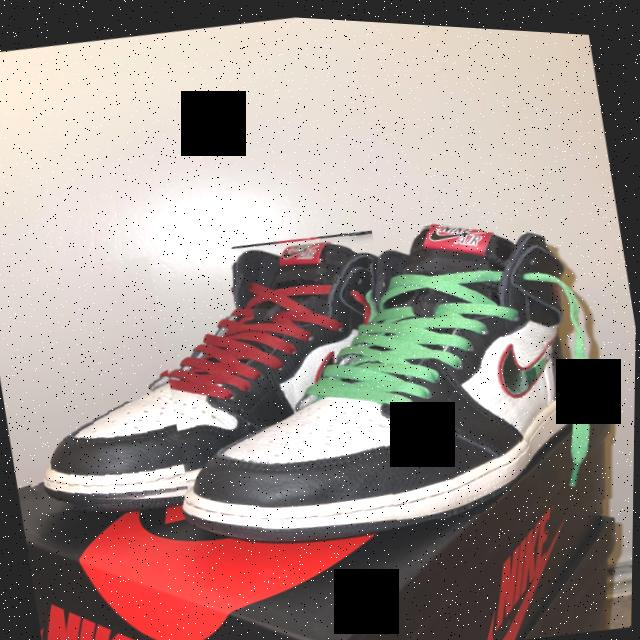shoe: (146, 180, 629, 564), (0, 207, 414, 534)
